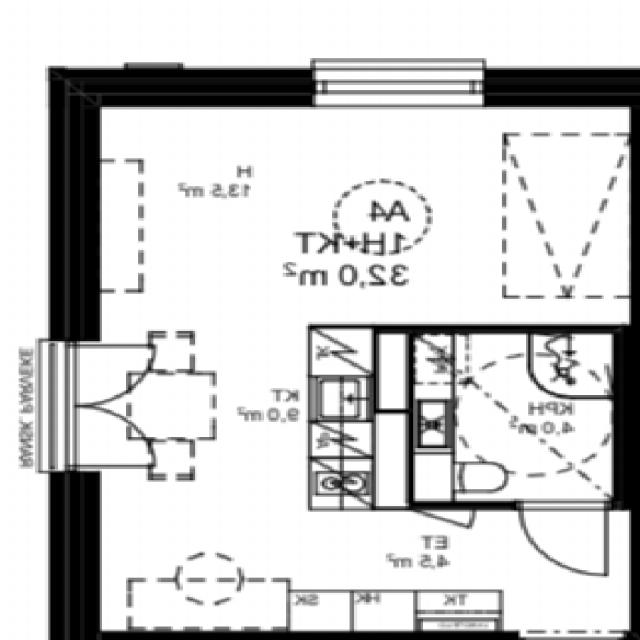door: (50, 345, 176, 406), (50, 406, 176, 466), (521, 502, 607, 576)
